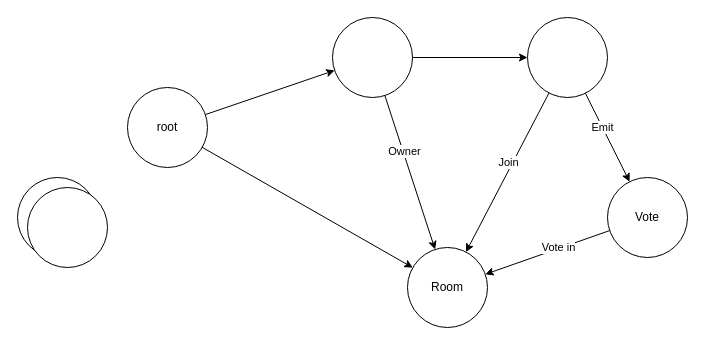
The diagram is 705 pixels wide and 345 high, and some of its shapes have lost their labels. The box of each missing label's shape, as (x1, y1, x2, y2) in pixels:
Anonimous Session: (526, 16, 608, 98)
User: (332, 16, 412, 98)
